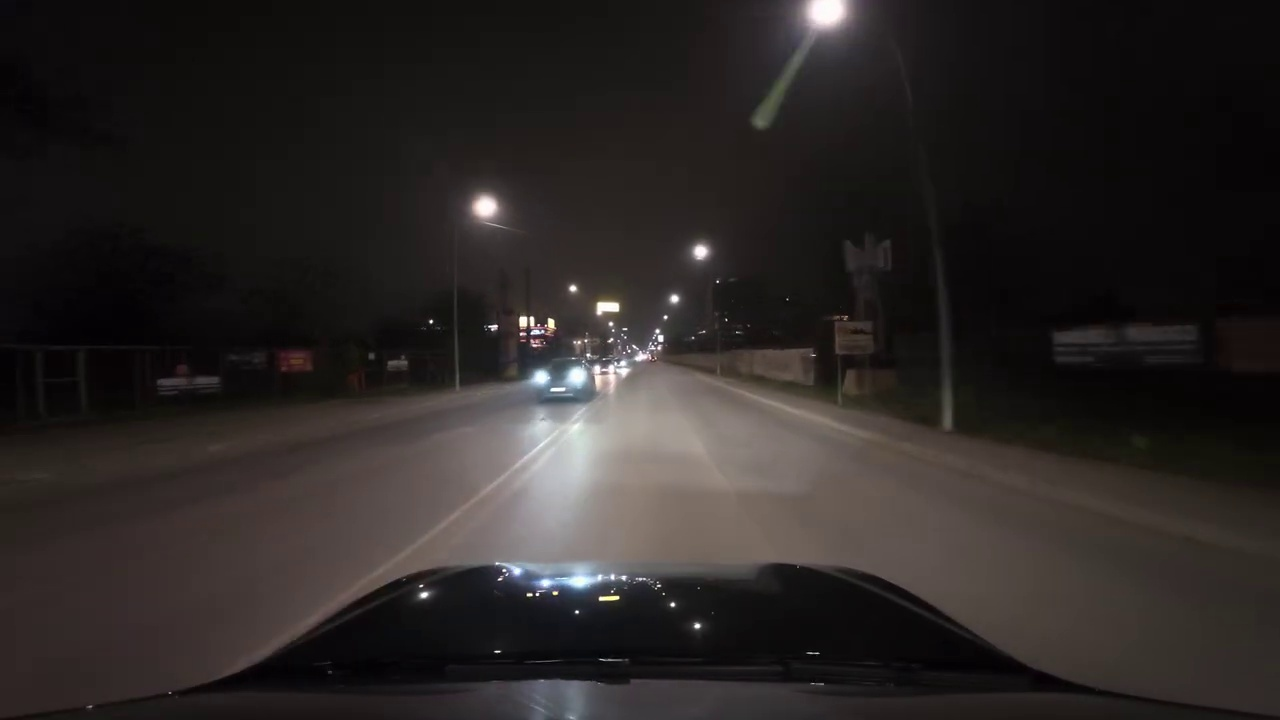acesa: (806, 0, 847, 29), (468, 192, 501, 222), (688, 240, 713, 265), (564, 281, 581, 300)
